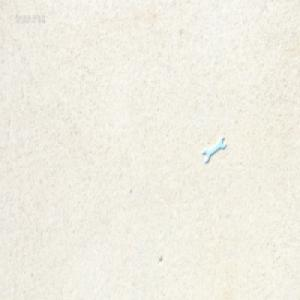Wrench: (202, 135, 226, 162)
